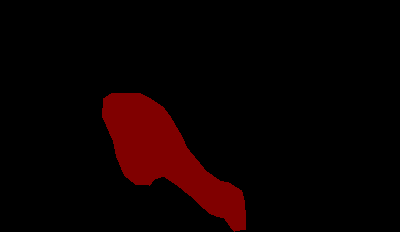fire: (102, 93, 245, 231)
